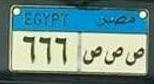6: (21, 36, 36, 64), (56, 37, 70, 65), (39, 36, 53, 63)
saad: (84, 45, 104, 65), (105, 46, 125, 65), (126, 47, 145, 66)
